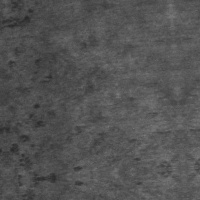rolled-in_scale: (0, 53, 59, 182), (0, 4, 39, 34)
